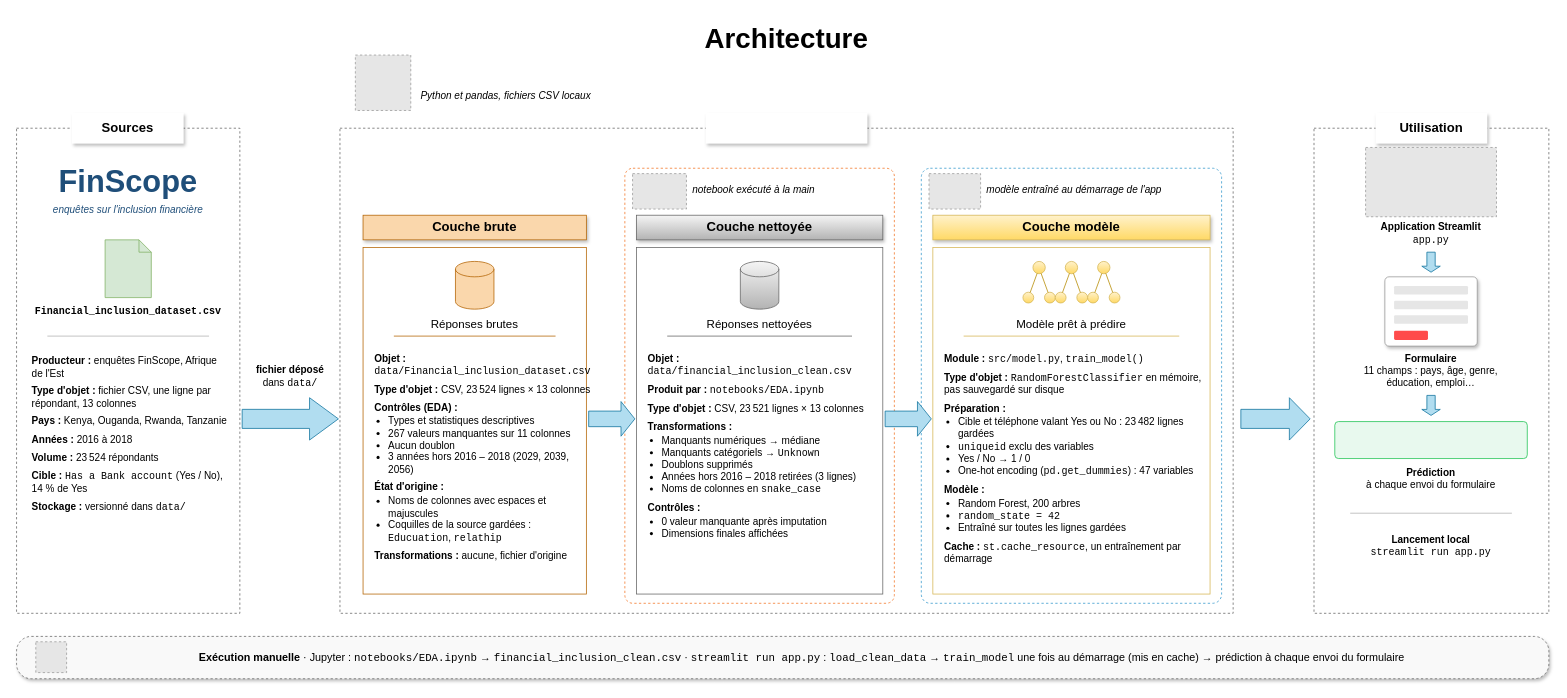
Some shapes in this 1567 by 698 pixel diagram are drawn without their labels. Grey dashed boxes stand in for pictures. Each missing label, with the centre of its shape:
"CSV" goes at [127,268].
"Probabilité de posséder un compte bancaire : xx %" goes at [1430,440].
"Traitement Python" goes at [787,129].
